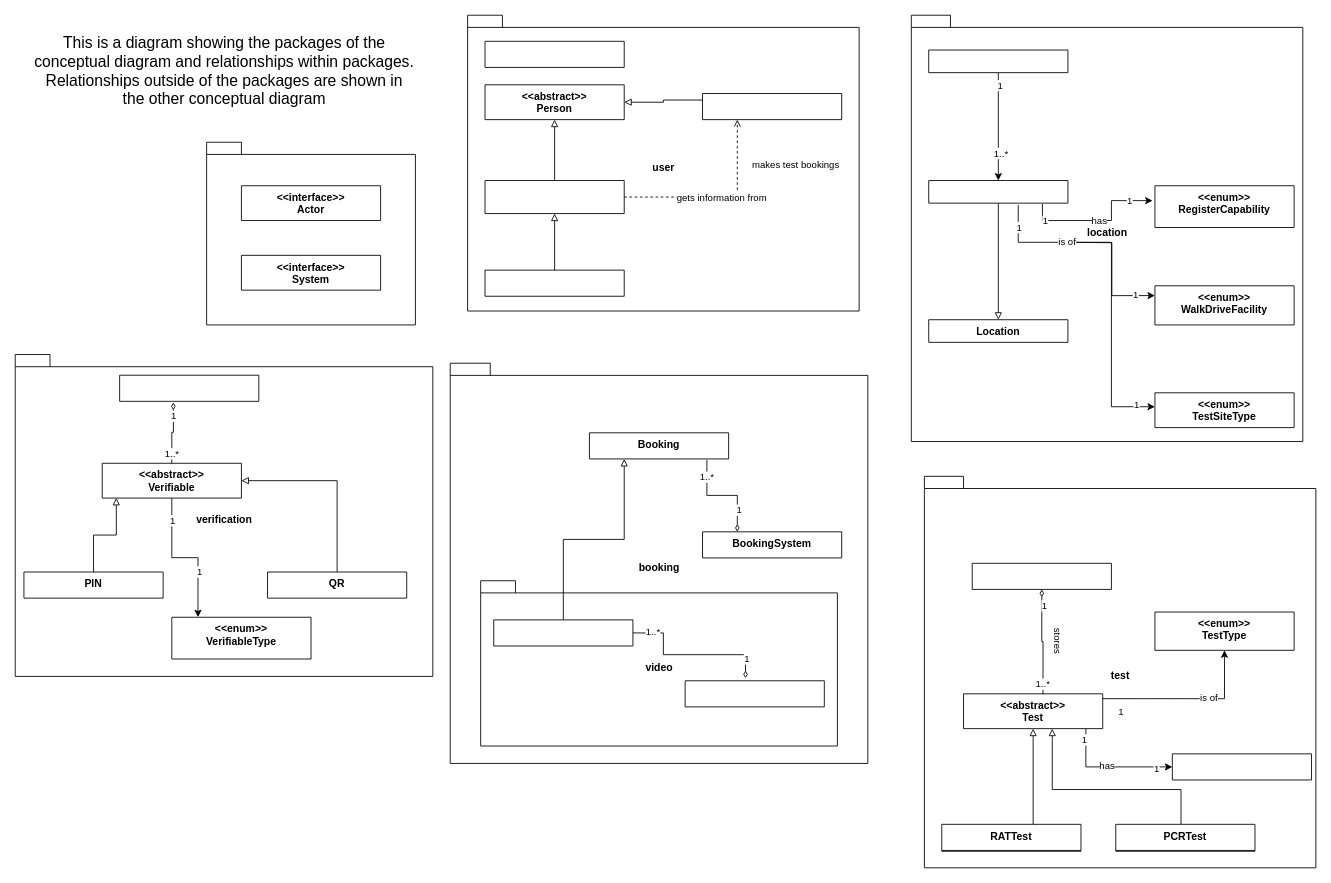
This 1331x883 diagram has some shape labels left out. The shapes that lost their labels are listed below. From the top down, each one's box as (x1, y1, x2, y2) in pixels, then its label:
(484, 40, 624, 67): StateGovernment
(928, 49, 1068, 73): TestSiteSystem
(702, 93, 842, 120): Patient
(484, 180, 624, 214): FacilityStaff
(928, 180, 1068, 203): TestSite
(206, 141, 415, 325): interfaces
(484, 269, 624, 296): ExpertTeam
(119, 374, 259, 401): VerificationSystem
(971, 562, 1111, 589): RecordSystem
(493, 619, 633, 646): VideoBooking
(684, 680, 824, 707): VideoSystem
(1171, 753, 1312, 780): Result
